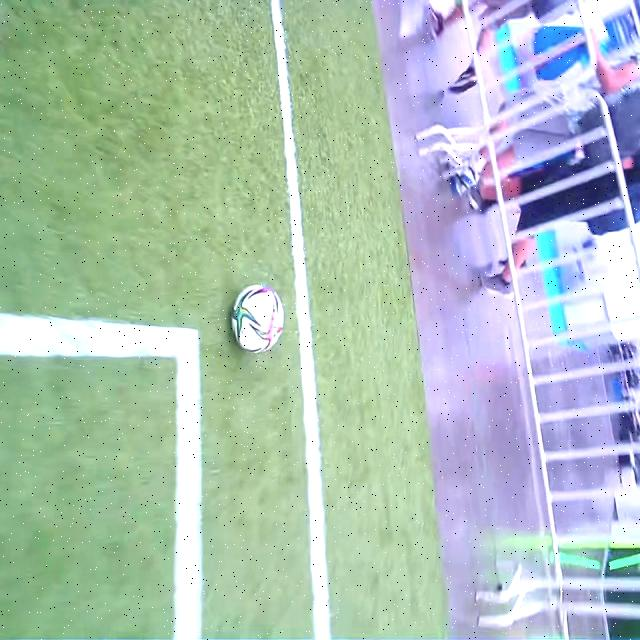ball: (233, 284, 284, 356)
